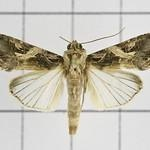Spodoptera litura: (1, 26, 150, 135)
